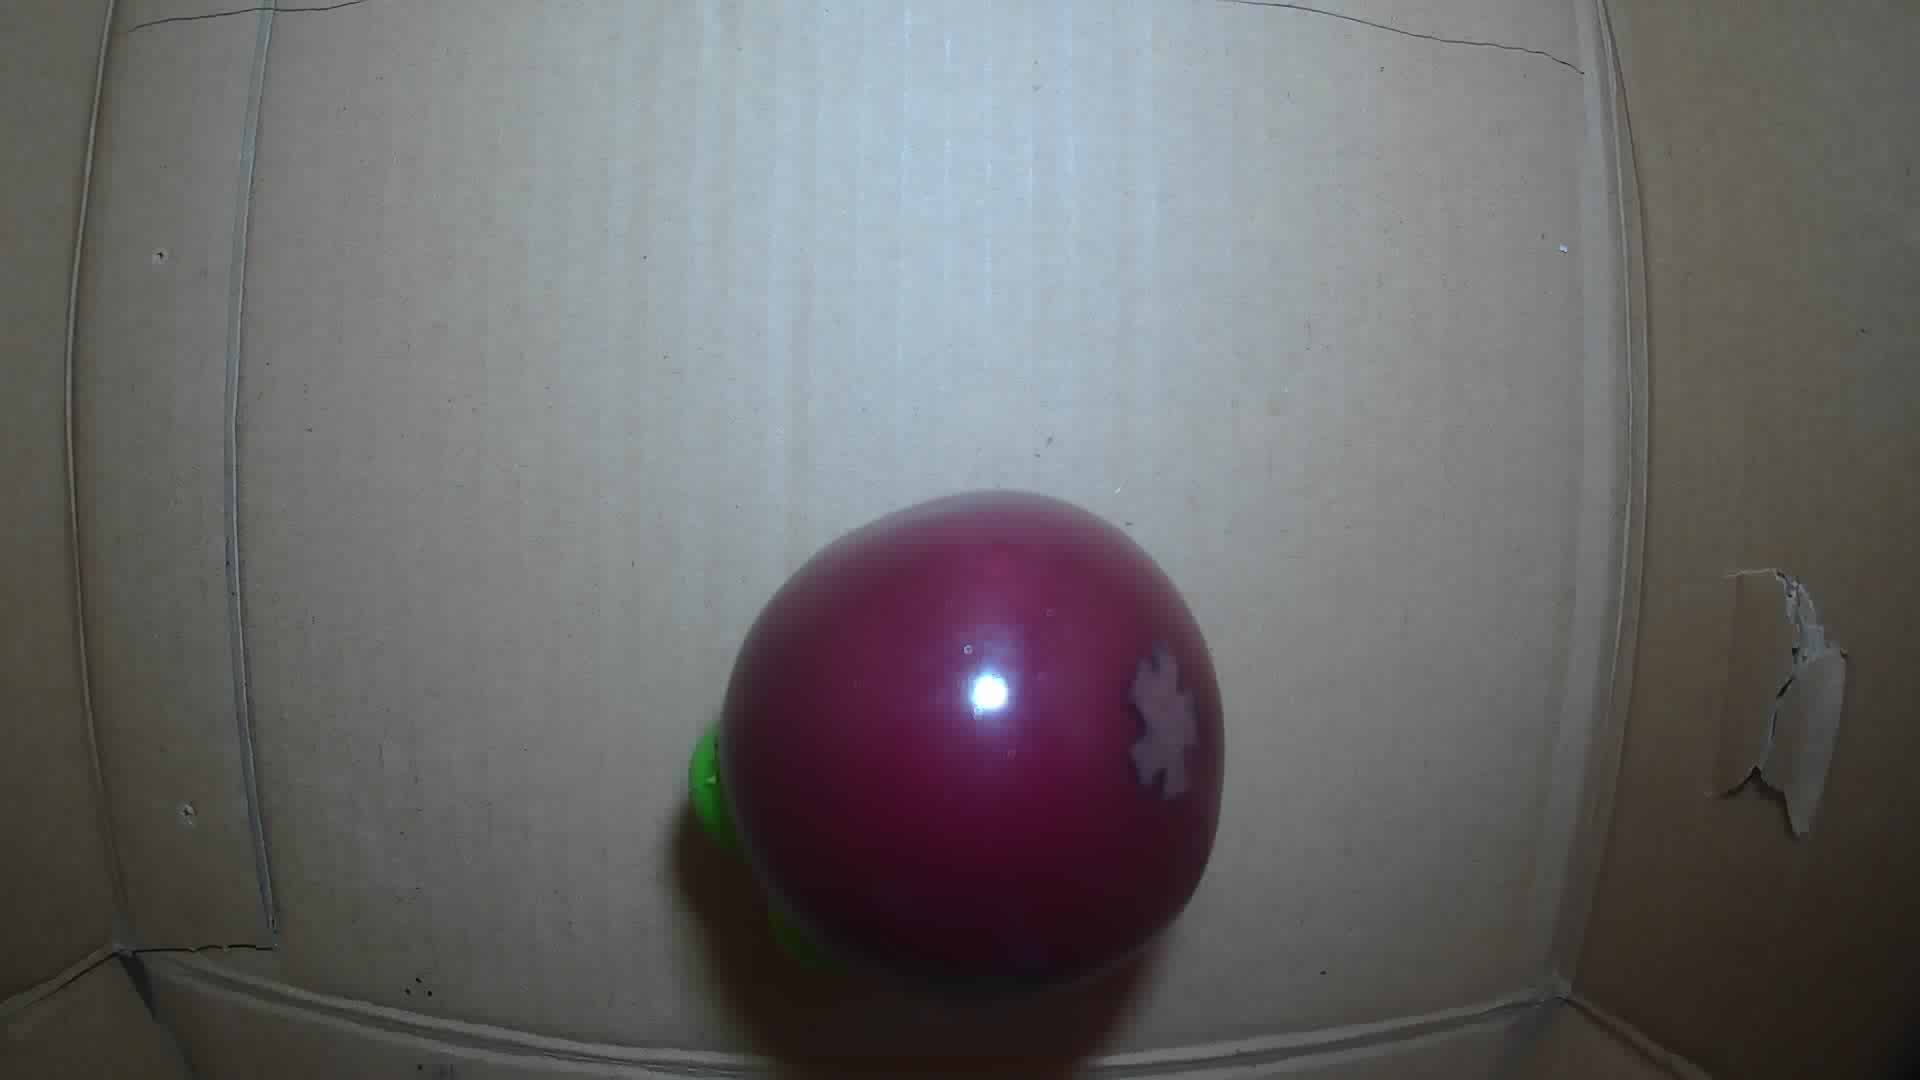mangosteen: (687, 487, 1228, 982)
